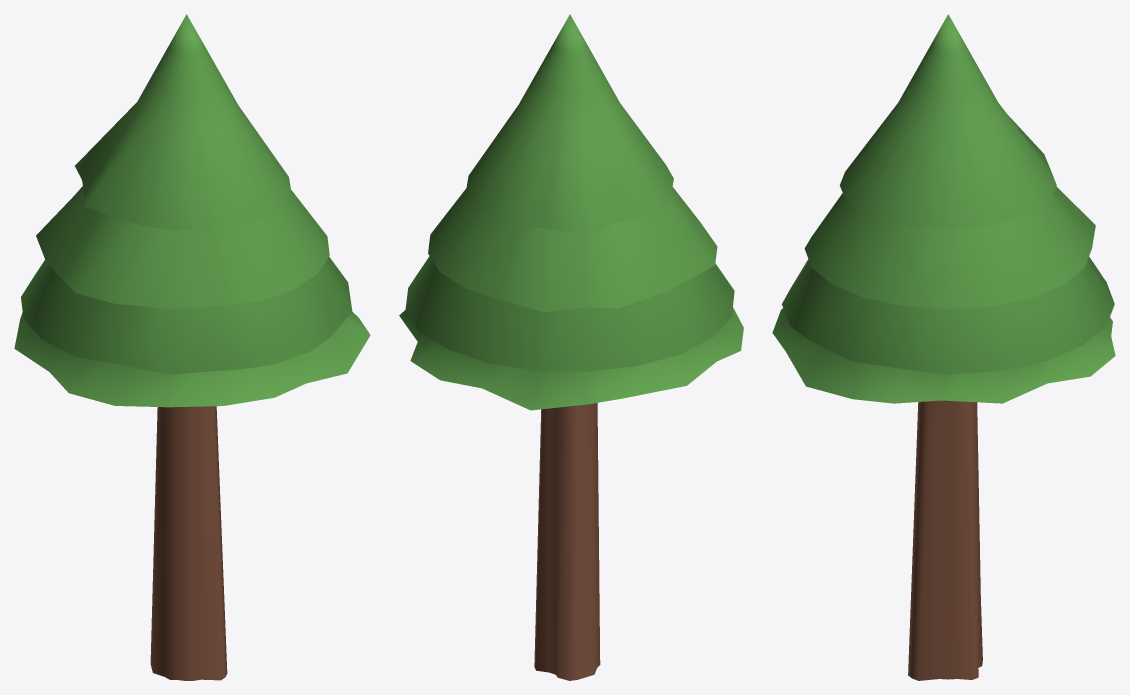
File: Tree1.fbx
The picture shows the model from 3 angles, left to right: view 1: azimuth 30°, elevation 25°; view 2: azimuth 150°, elevation 25°; view 3: azimuth 270°, elevation 25°; orthographic projection.
Visible parts, largest first — view 1: Tree_1; view 2: Tree_1; view 3: Tree_1.
Part boxes in pixels (x1,y1,x2,y2): Tree_1: [14, 14, 370, 680]; Tree_1: [399, 14, 743, 680]; Tree_1: [772, 14, 1115, 680].
Bounding box in the file's own units: 11.59 × 25.01 × 11.89.
